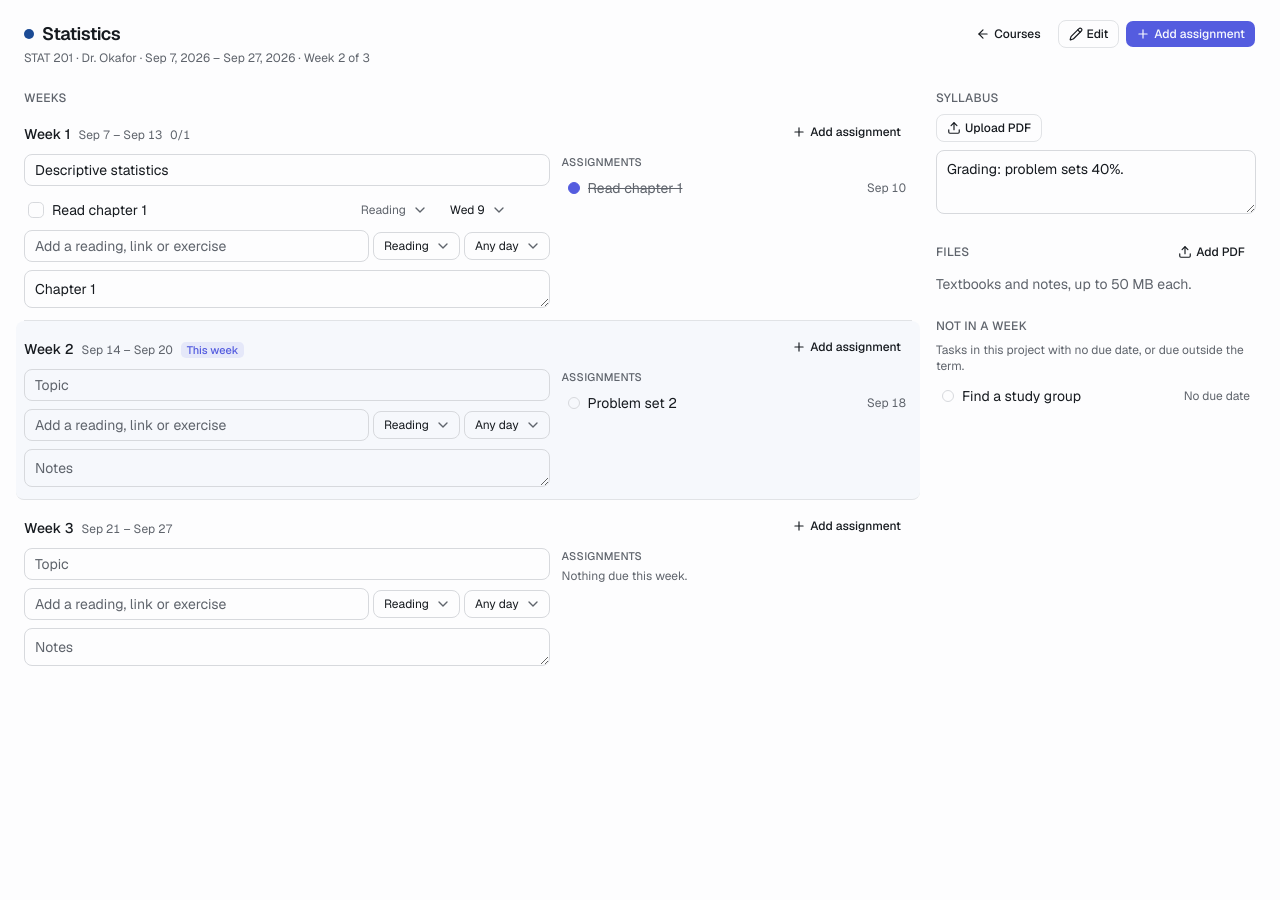
Scenario: the week checklist › adds an entry on Enter, reading a pasted link as the link
This screenshot has width=1280, height=900.
Type "Lecture notes https://example.com/stat/notes.pdf" into the field named "Add to week 2" at (196, 425), box x1=24 y1=409 x2=369 y2=441
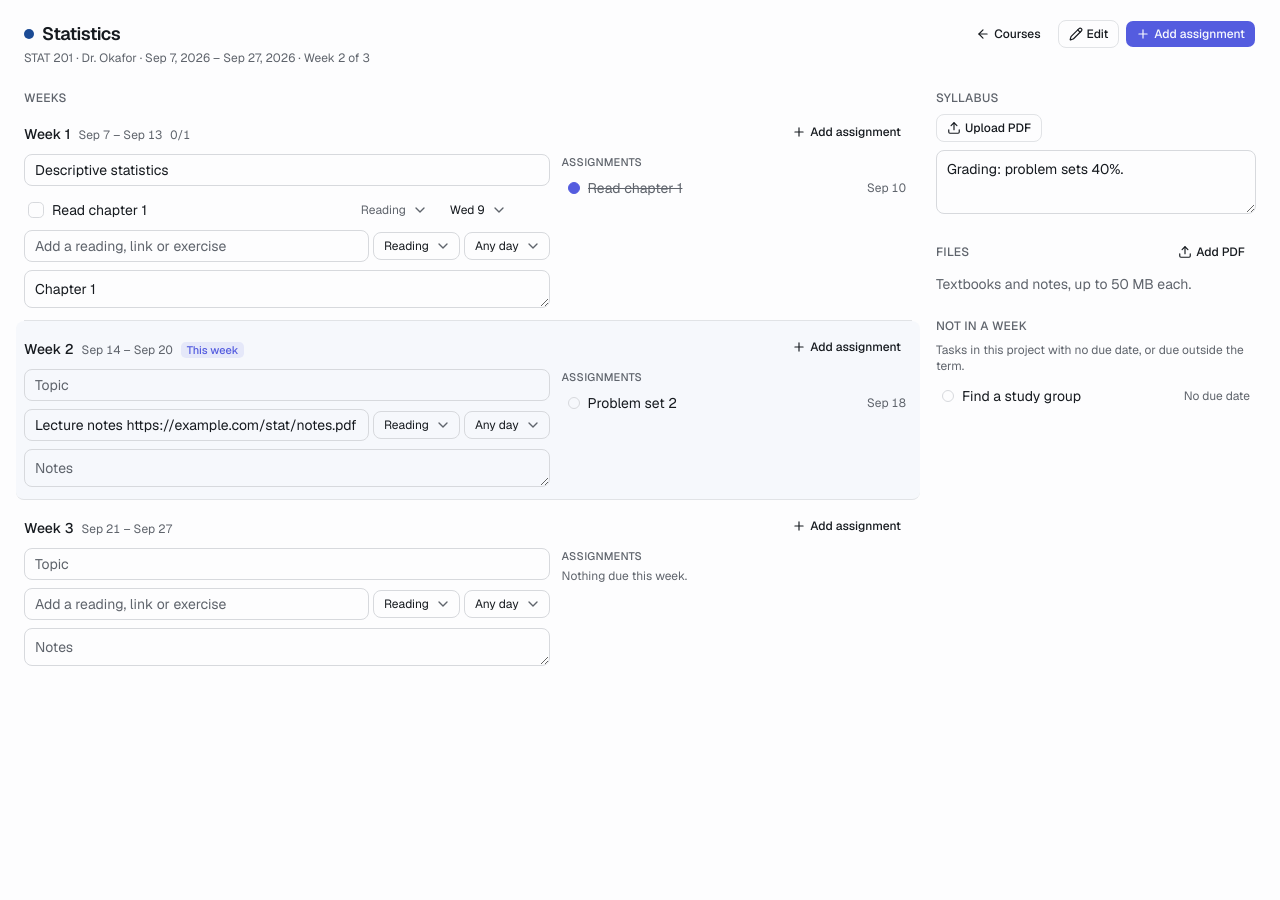
Press Enter in the field named "Add to week 2", box x1=24 y1=409 x2=369 y2=441
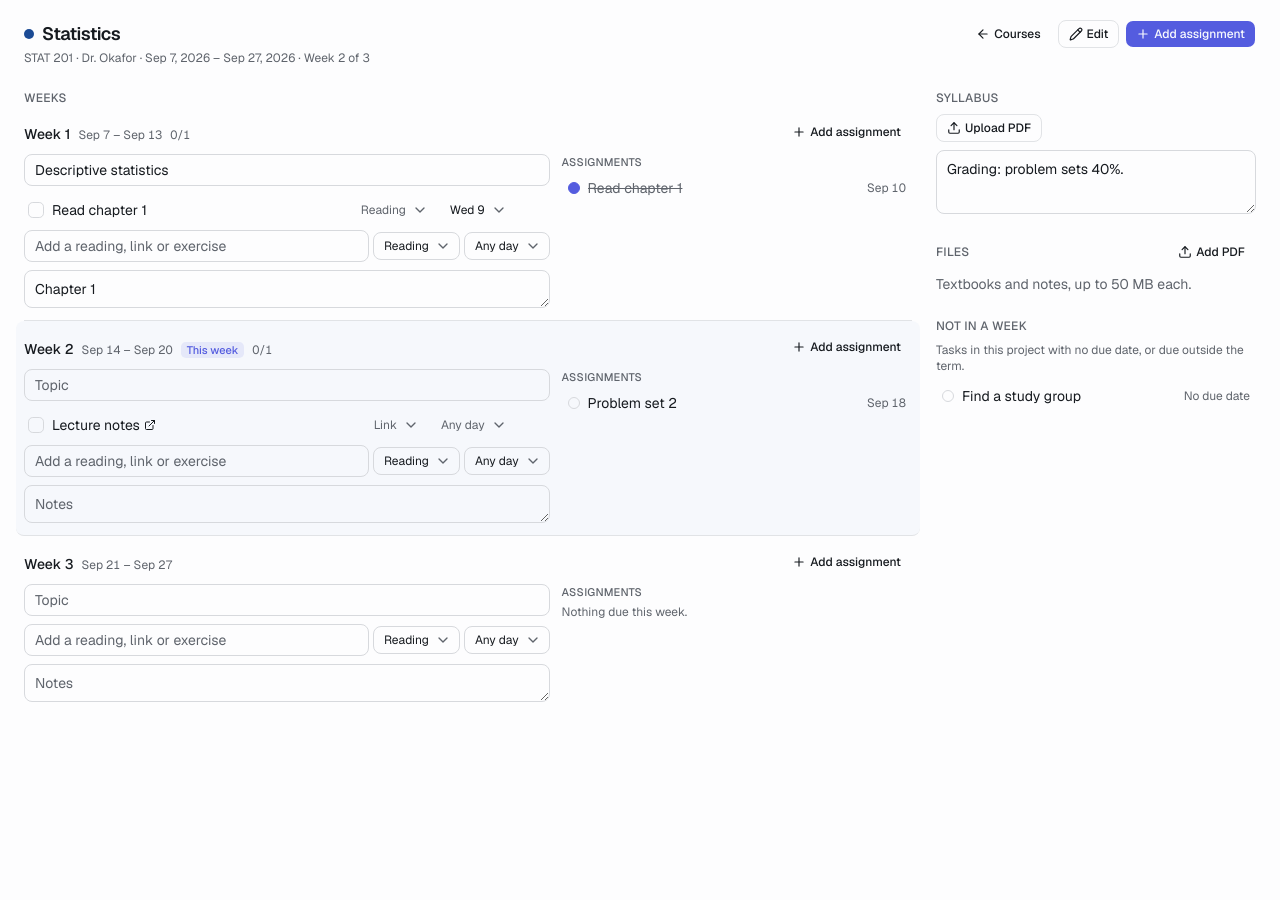
Result: the field named "Add to week 2" is empty at x1=24 y1=445 x2=369 y2=477
Result: the list named "Week 2 checklist" shows "Lecture notes" at x1=52 y1=415 x2=156 y2=435
